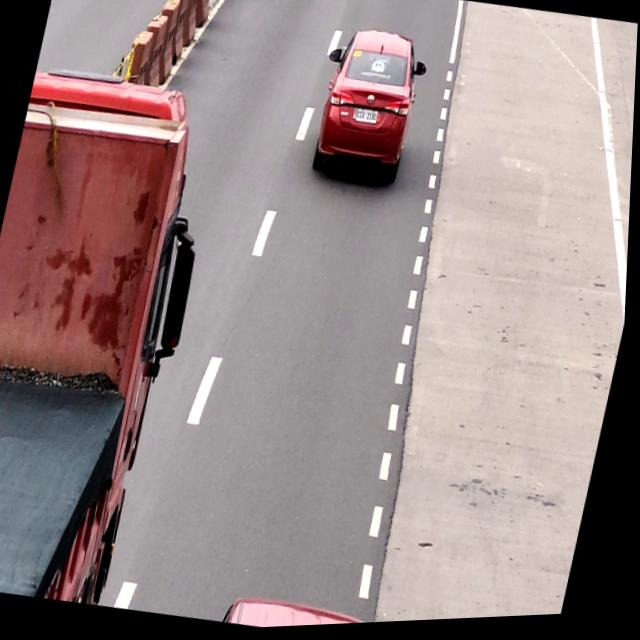Car: (310, 22, 425, 187), (226, 592, 389, 631)
License-Plate: (355, 111, 380, 127)
Truck: (0, 60, 224, 611)
